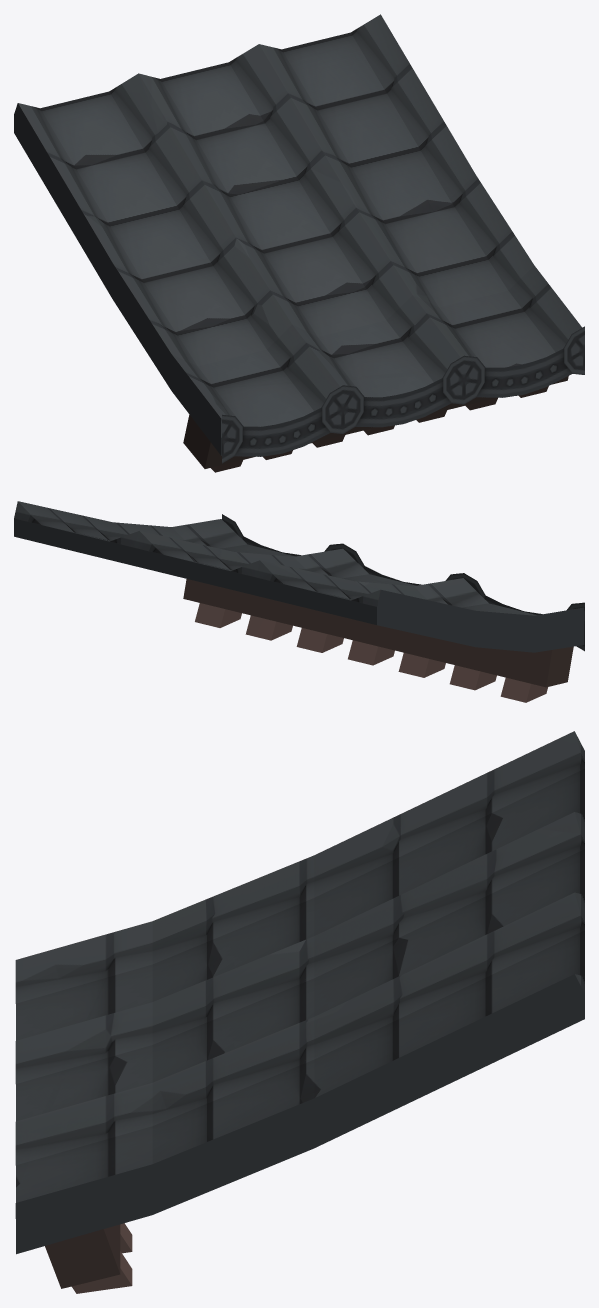
File: SM_Bld_Roof_Edge_01.fbx
3 renders of one model, top to bottom at view 1: azimuth 30°, elevation 25°; view 2: azimuth 150°, elevation 25°; view 3: azimuth 270°, elevation 25°, orthographic. The views are drawn at different scales.
Parts seen in each view (by area): view 1: SM_Bld_Roof_Edge_01; view 2: SM_Bld_Roof_Edge_01; view 3: SM_Bld_Roof_Edge_01.
Part boxes in pixels (box(x1,y1,x2,y2)): SM_Bld_Roof_Edge_01: box(14, 14, 584, 472); SM_Bld_Roof_Edge_01: box(14, 501, 584, 702); SM_Bld_Roof_Edge_01: box(15, 731, 584, 1293).
Bounding box in the file's own units: 250 × 159 × 248.
